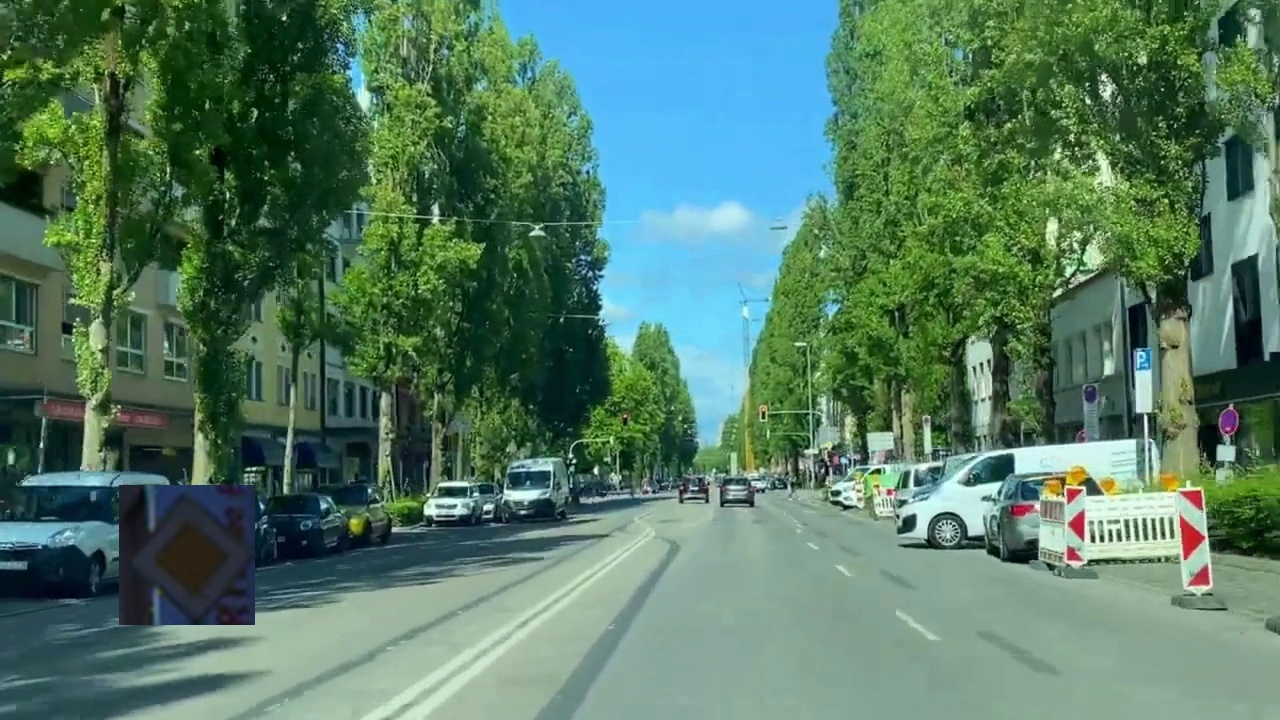Priority road: (119, 485, 255, 625)
